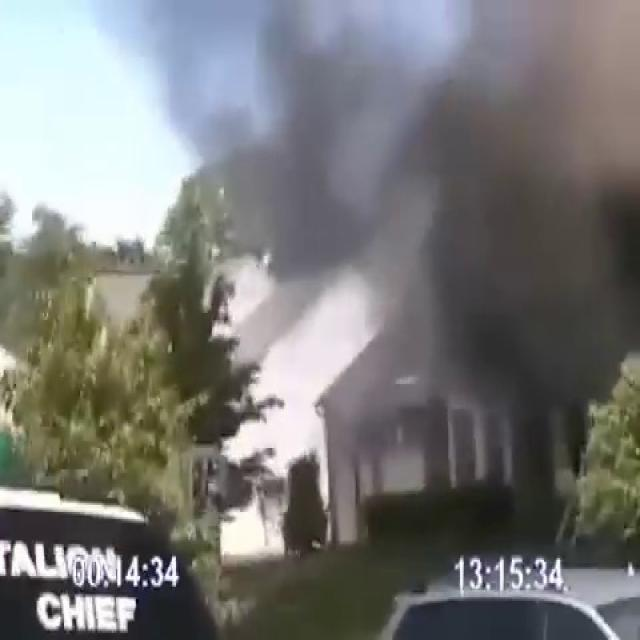Smoke: (215, 0, 639, 460)
